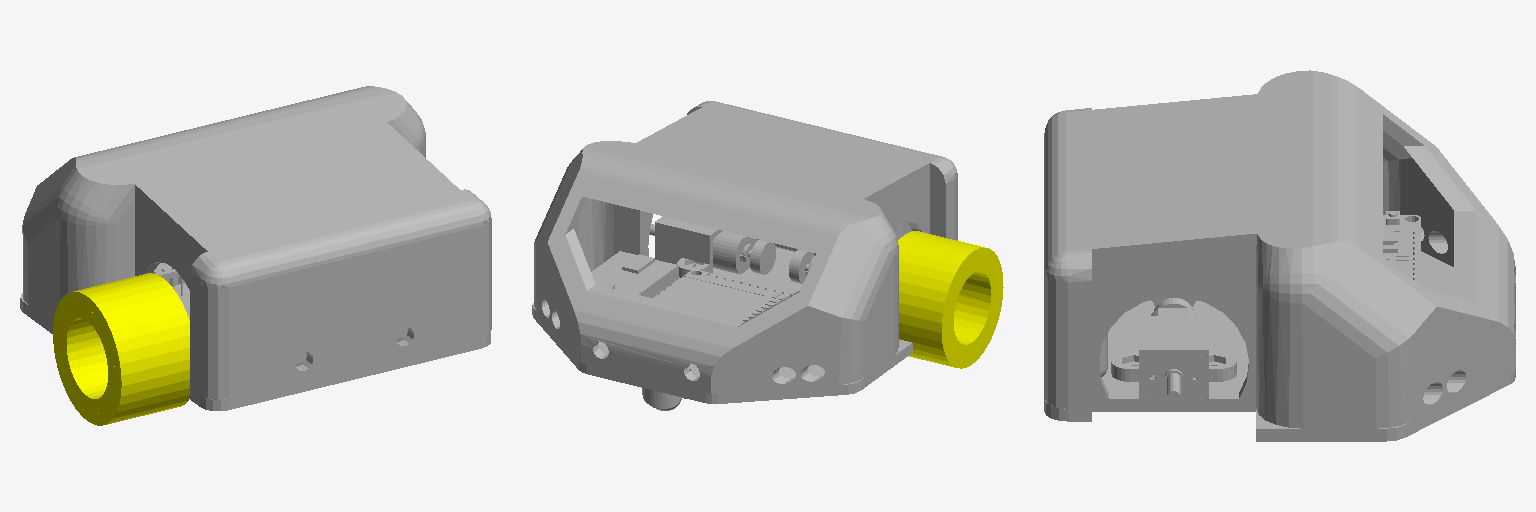
The robot description file, URDF, robot "RMD":
<?xml version="1.0" encoding="utf-8"?>
<robot
  name="RMD">
  <link
    name="base_link">
    <inertial>
      <origin
        xyz="7.8882E-06 0.010304 0.015319"
        rpy="0 0 0" />
      <mass
        value="0.16545" />
      <inertia
        ixx="0.000116"
        ixy="-1.3693E-10"
        ixz="5.0864E-09"
        iyy="0.00012082"
        iyz="4.8963E-06"
        izz="0.00020689" />
    </inertial>
    <visual>
      <origin
        xyz="0 0 0"
        rpy="0 0 0" />
      <geometry>
        <mesh
          filename="package://RMD/meshes/base_link.STL" />
      </geometry>
      <material
        name="">
        <color
          rgba="0.75294 0.75294 0.75294 1" />
      </material>
    </visual>
    <collision>
      <origin
        xyz="0 0 0"
        rpy="0 0 0" />
      <geometry>
        <mesh
          filename="package://RMD/meshes/base_link.STL" />
      </geometry>
    </collision>
  </link>
  <link
    name="R_Link">
    <inertial>
      <origin
        xyz="-0.0095 4.099E-17 2.3506E-16"
        rpy="0 0 0" />
      <mass
        value="0.015656" />
      <inertia
        ixx="2.513E-06"
        ixy="-4.5727E-21"
        ixz="-1.3954E-21"
        iyy="1.8577E-06"
        iyz="2.1487E-22"
        izz="1.8577E-06" />
    </inertial>
    <visual>
      <origin
        xyz="0 0 0"
        rpy="0 0 0" />
      <geometry>
        <mesh
          filename="package://RMD/meshes/R_Link.STL" />
      </geometry>
      <material
        name="">
        <color
          rgba="0.75294 0.75294 0.75294 1" />
      </material>
    </visual>
    <collision>
      <origin
        xyz="0 0 0"
        rpy="0 0 0" />
      <geometry>
        <mesh
          filename="package://RMD/meshes/R_Link.STL" />
      </geometry>
    </collision>
  </link>
  <joint
    name="R_joint"
    type="continuous">
    <origin
      xyz="0.0373 0 0.005"
      rpy="0 0 -3.1416" />
    <parent
      link="base_link" />
    <child
      link="R_Link" />
    <axis
      xyz="-1 0 0" />
  </joint>
  <link
    name="L_Link">
    <inertial>
      <origin
        xyz="-0.0095 6.5919E-17 2.8189E-18"
        rpy="0 0 0" />
      <mass
        value="0.015656" />
      <inertia
        ixx="2.513E-06"
        ixy="-4.5703E-21"
        ixz="9.9263E-22"
        iyy="1.8577E-06"
        iyz="3.9705E-22"
        izz="1.8577E-06" />
    </inertial>
    <visual>
      <origin
        xyz="0 0 0"
        rpy="0 0 0" />
      <geometry>
        <mesh
          filename="package://RMD/meshes/L_Link.STL" />
      </geometry>
      <material
        name="asd">
        <color
          rgba="0.99 0.99 0 1" />
      </material>
    </visual>
    <collision>
      <origin
        xyz="0 0 0"
        rpy="0 0 0" />
      <geometry>
        <mesh
          filename="package://RMD/meshes/L_Link.STL" />
      </geometry>
    </collision>
  </link>
  <joint
    name="L_joint"
    type="continuous">
    <origin
      xyz="-0.0373 0 0.005"
      rpy="0 0 0" />
    <parent
      link="base_link" />
    <child
      link="L_Link" />
    <axis
      xyz="-1 0 0" />
  </joint>
</robot>

--- Facts derived from the render (not from the file) ---
3 views of the same robot in one strip: view 1: azimuth 30°, elevation 25°; view 2: azimuth 150°, elevation 25°; view 3: azimuth 270°, elevation 25° (orthographic).
Model RMD with 3 links and 2 joints (2 continuous), rooted at base_link, posed all joints at 0.
Links seen in each view (by area): view 1: base_link, L_Link; view 2: base_link, L_Link; view 3: base_link.
Link boxes in pixels (x1=…): base_link: x1=20, y1=86, x2=491, y2=410; L_Link: x1=53, y1=273, x2=189, y2=425; base_link: x1=532, y1=101, x2=957, y2=410; L_Link: x1=898, y1=231, x2=1003, y2=368; base_link: x1=1044, y1=70, x2=1515, y2=441.
Bounding box of the posed robot: 0.1083 × 0.1 × 0.0532 m (x, y, z).
Meshes: 3 distinct files referenced, 2 mesh visuals loaded (2 binary STL); not drawn: 1 (reference not matched to a file when rendering).